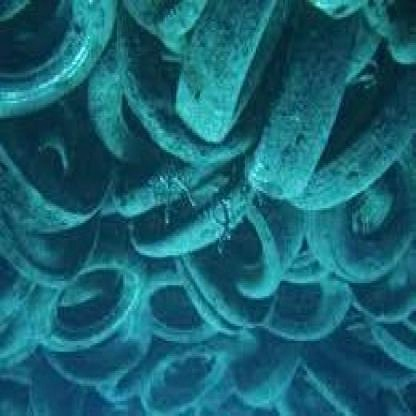tire: (189, 2, 322, 193), (32, 227, 147, 373), (313, 120, 416, 283), (123, 172, 240, 298), (172, 193, 290, 313), (2, 2, 120, 114), (122, 253, 224, 358), (90, 71, 188, 167)
